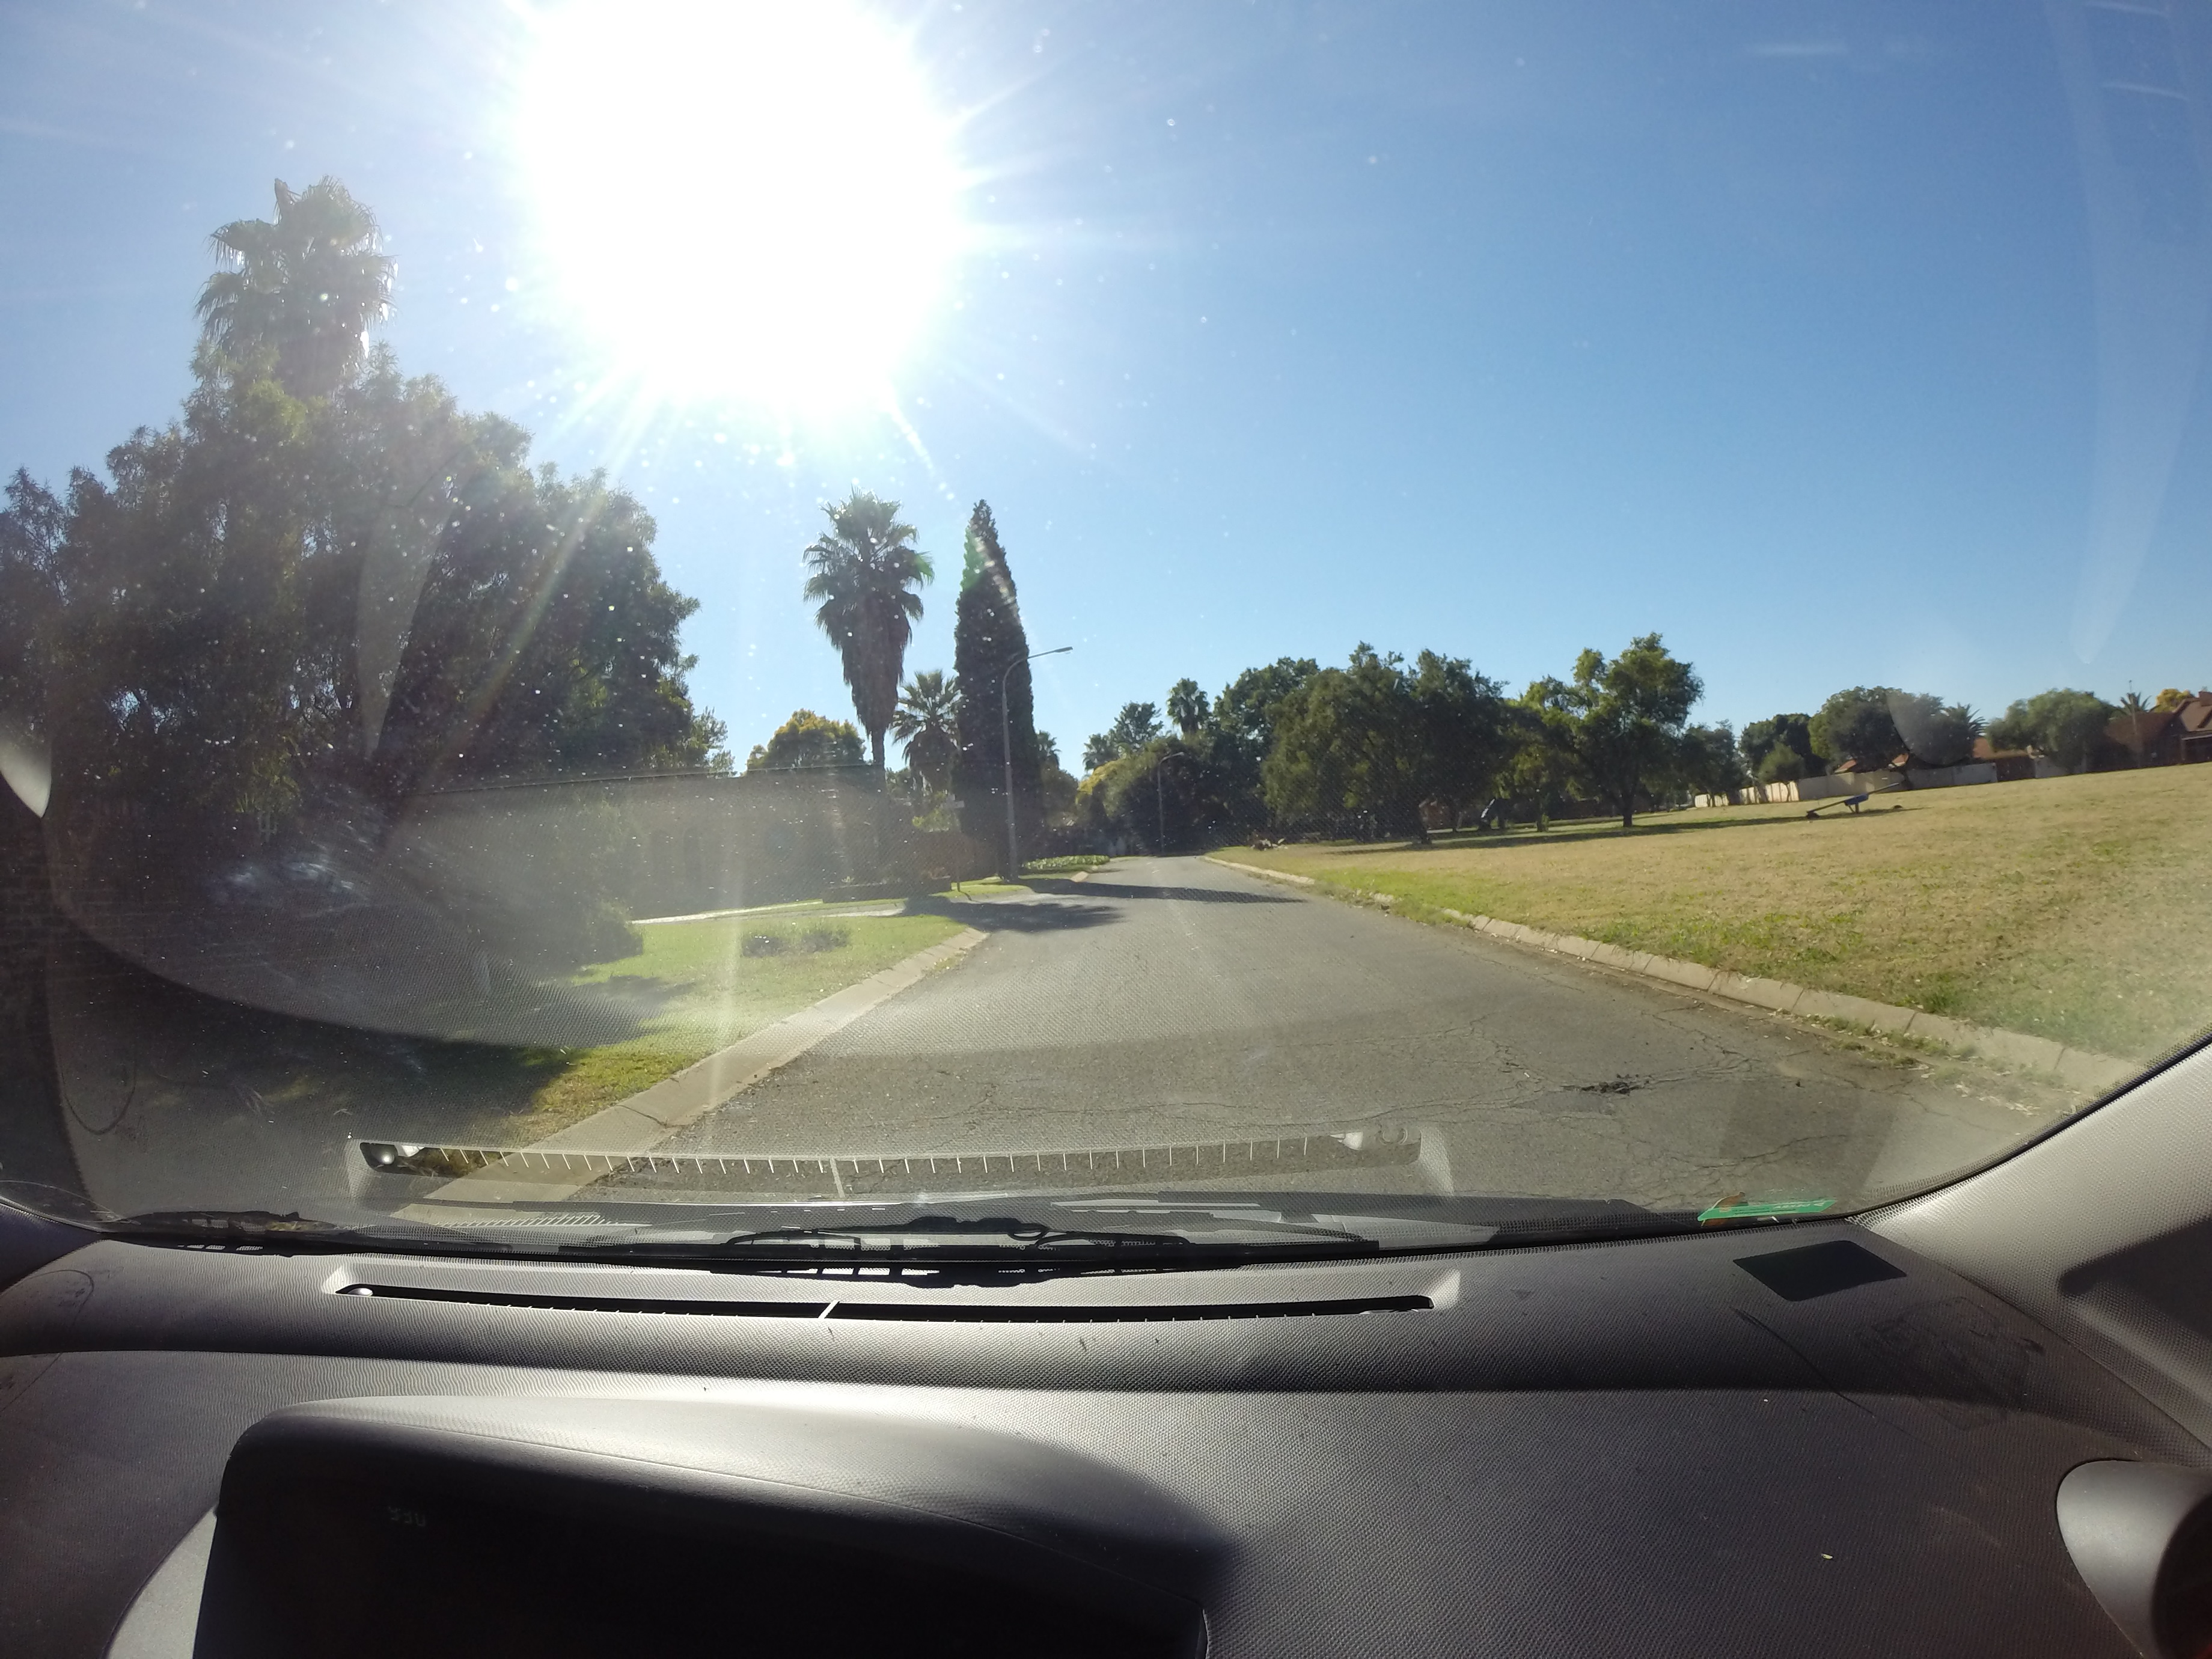pothole: (1552, 1026, 1735, 1124)
